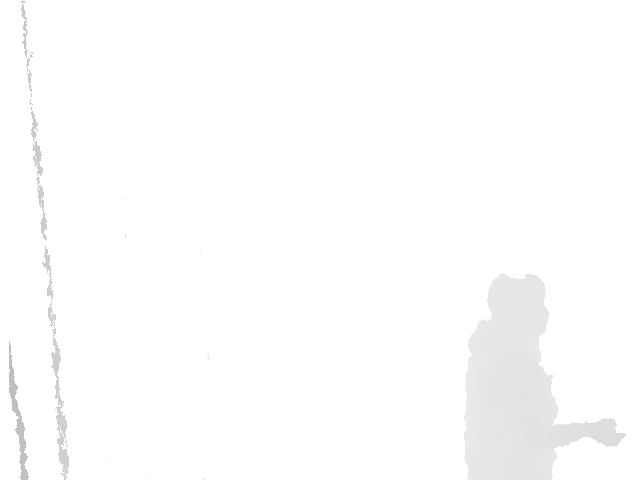head: (487, 273, 551, 340)
person: (463, 273, 626, 480)
